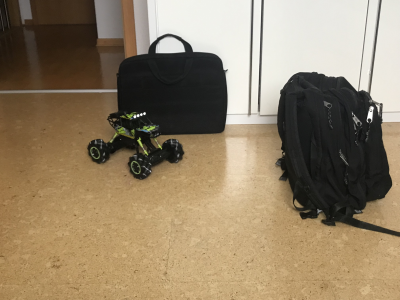remote control car: (87, 109, 186, 179)
